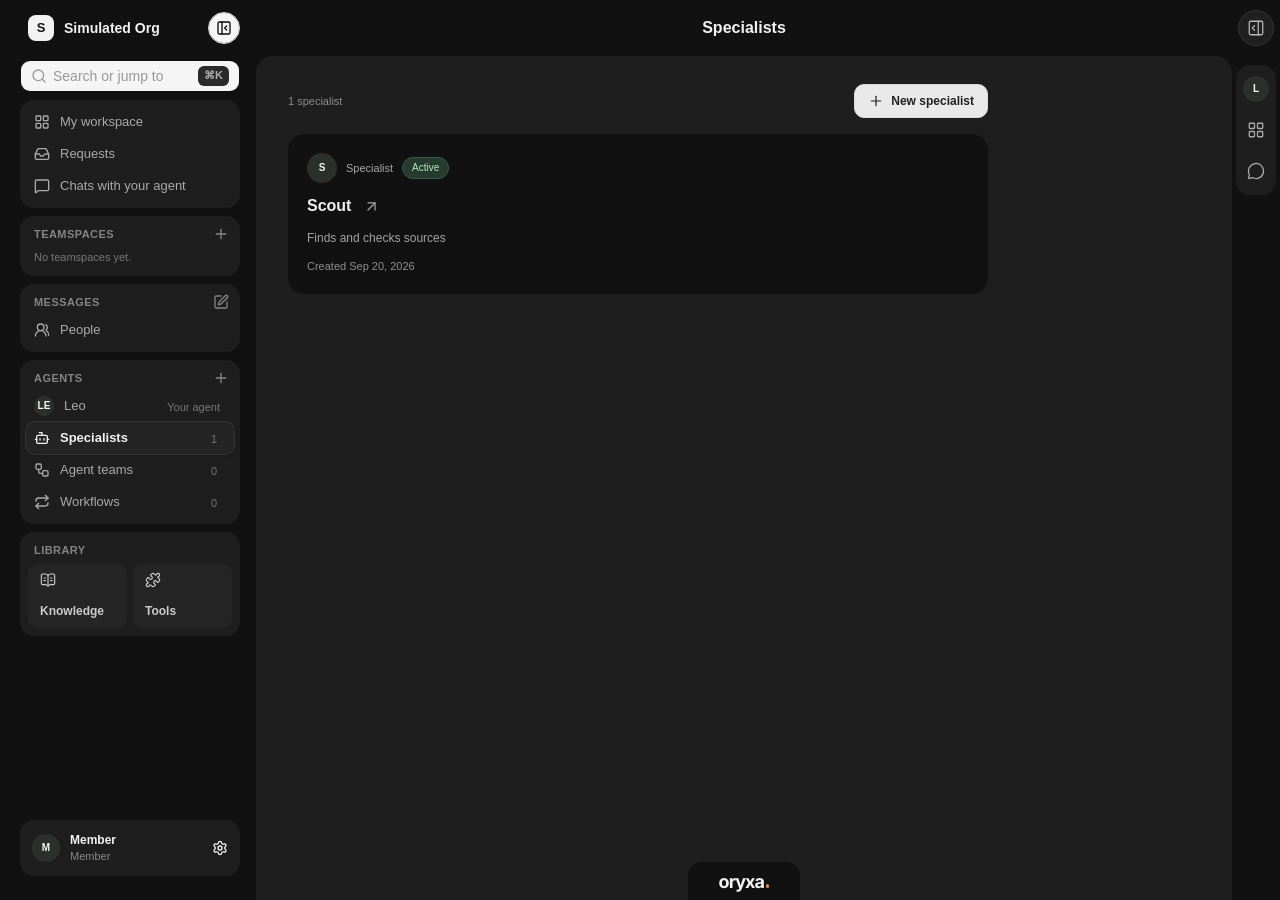
Test case: Specialists › keeps the form open with the name refused when it is taken
The width and height of the screenshot is (1280, 900).
Check: the button with aria-label "Open Scout" is shown, box [288, 134, 988, 294]
Step 1. Click the button "New specialist" → (921, 101), box [854, 84, 988, 118]
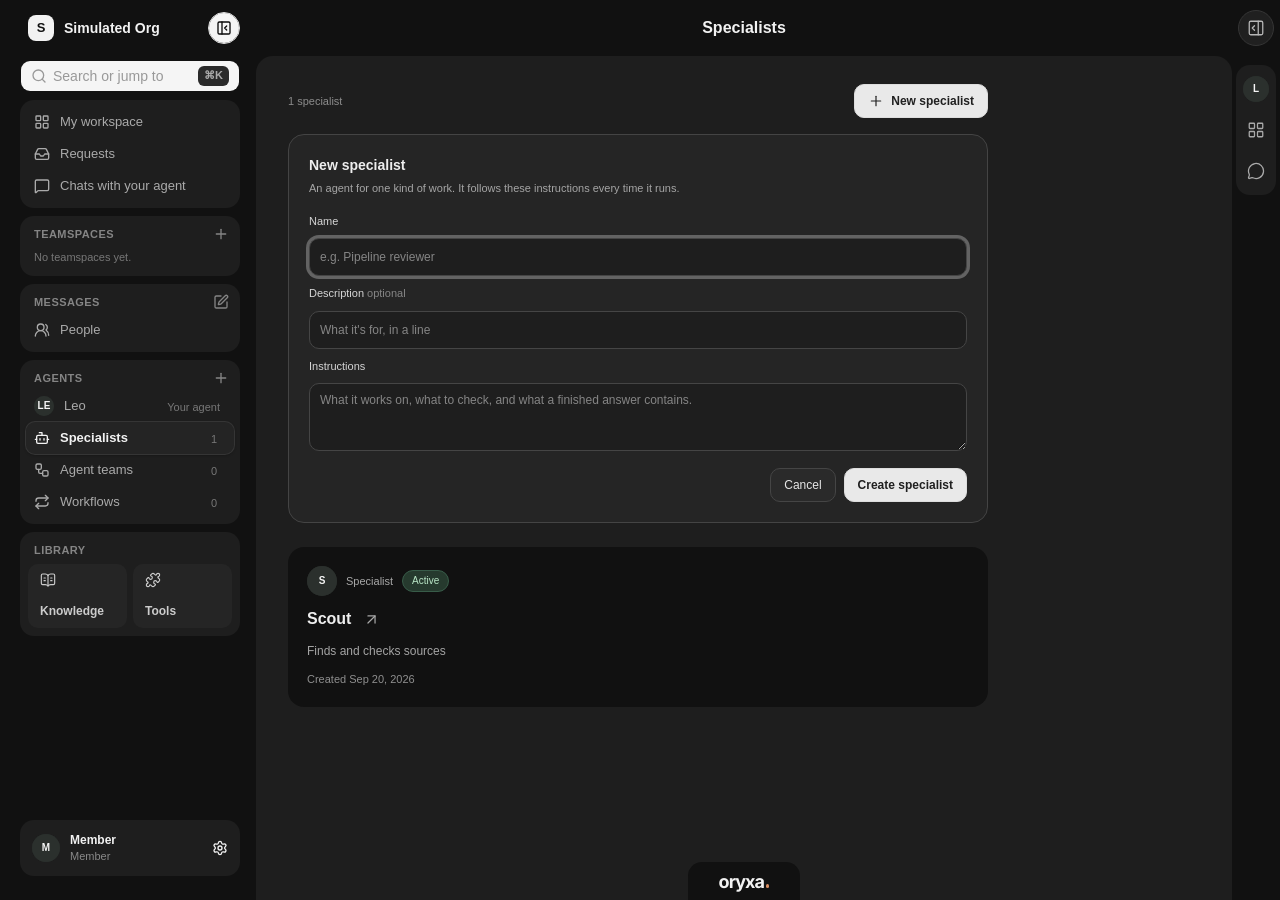
Step 2. Type "scout" into the field labelled "Name" → (638, 257), box [309, 238, 967, 276]
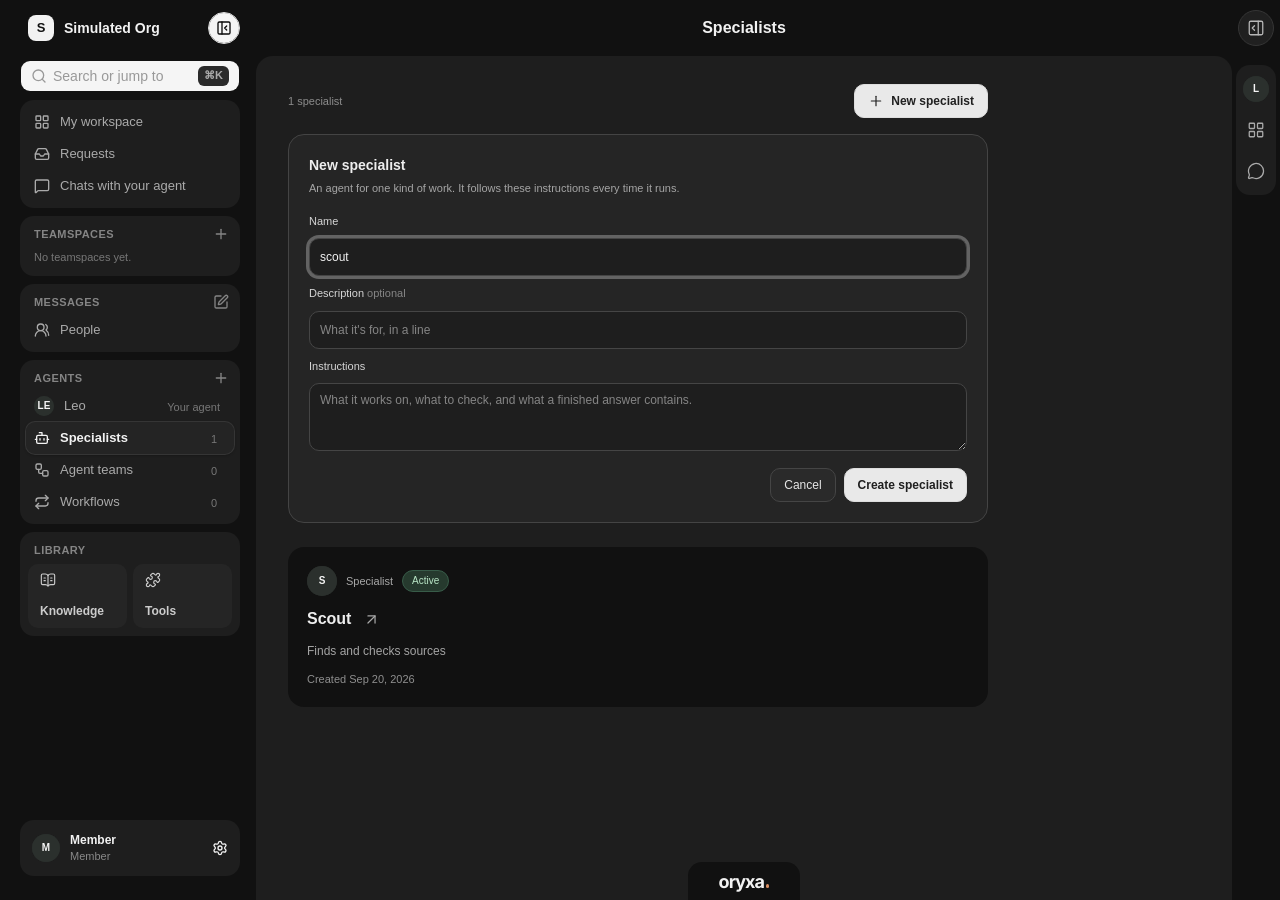
Step 3. Replace the text in the text box labelled "Instructions" with "Anything." → (638, 417), box [309, 383, 967, 451]
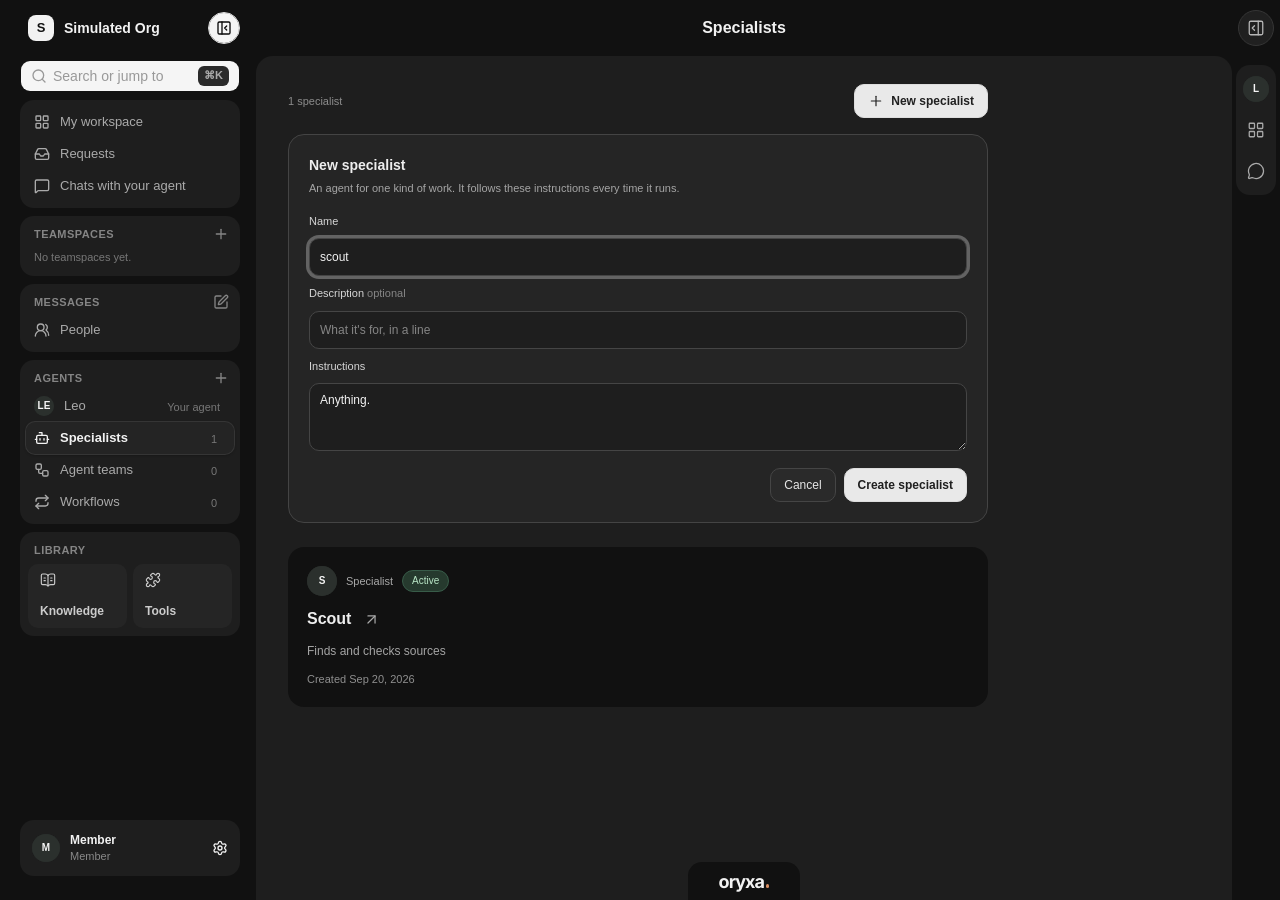
Step 4. Click the button "Create specialist" → (905, 485), box [844, 468, 967, 502]
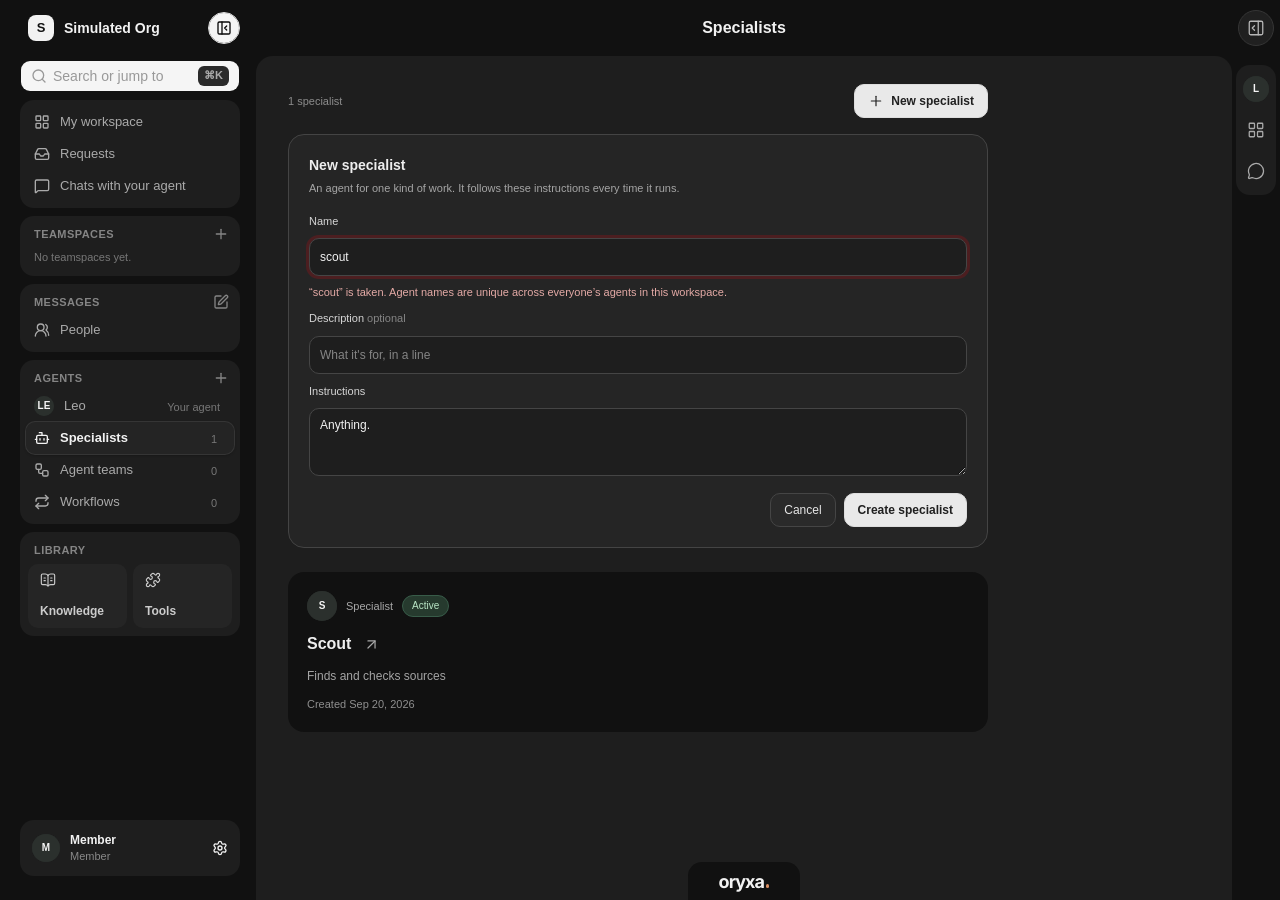
Check: the form "New specialist" is shown, box [288, 134, 988, 548]
Step 5. Replace the text in the field labelled "Name" with "Atlas" → (638, 257), box [309, 238, 967, 276]
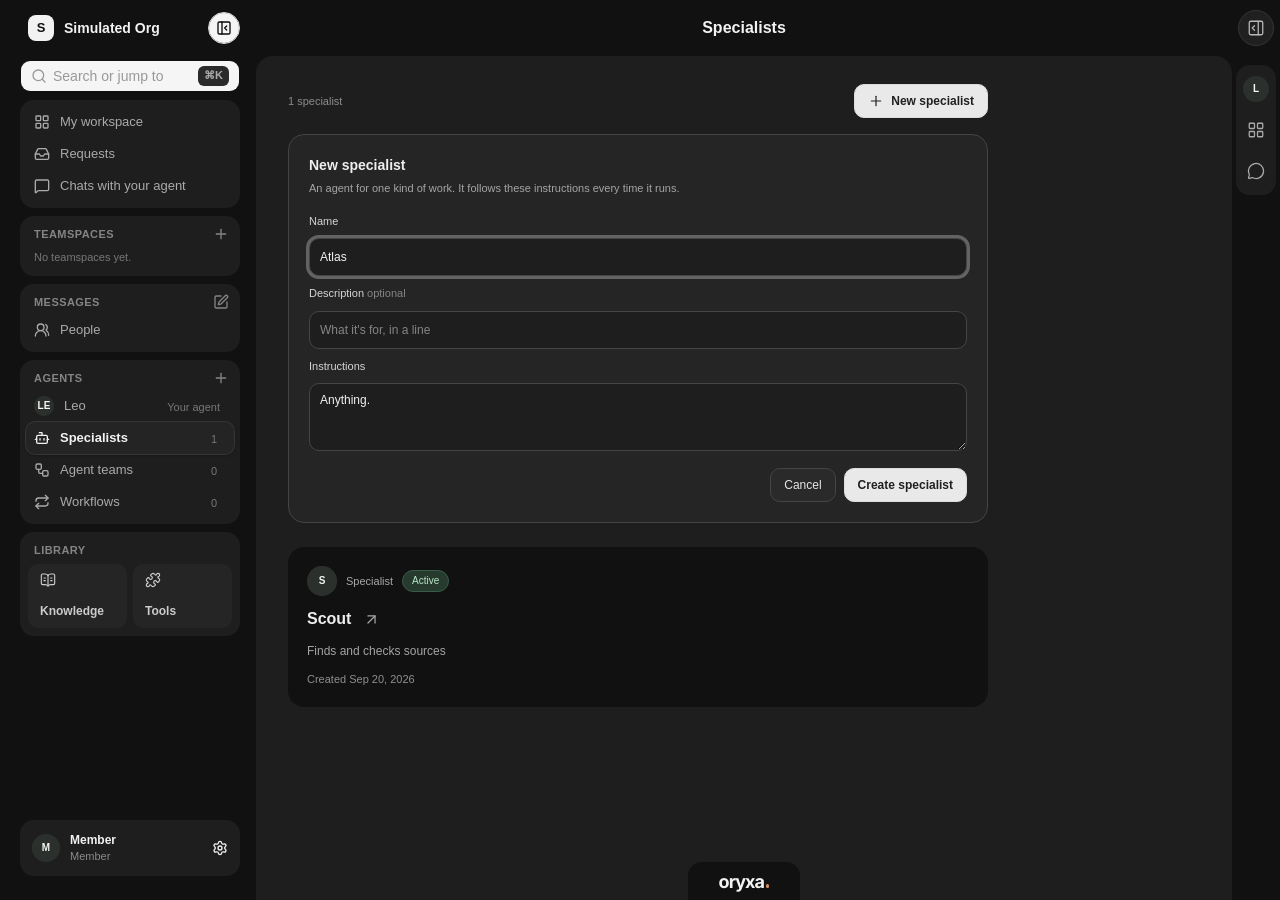
Step 6. Click the button "Create specialist" → (905, 485), box [844, 468, 967, 502]
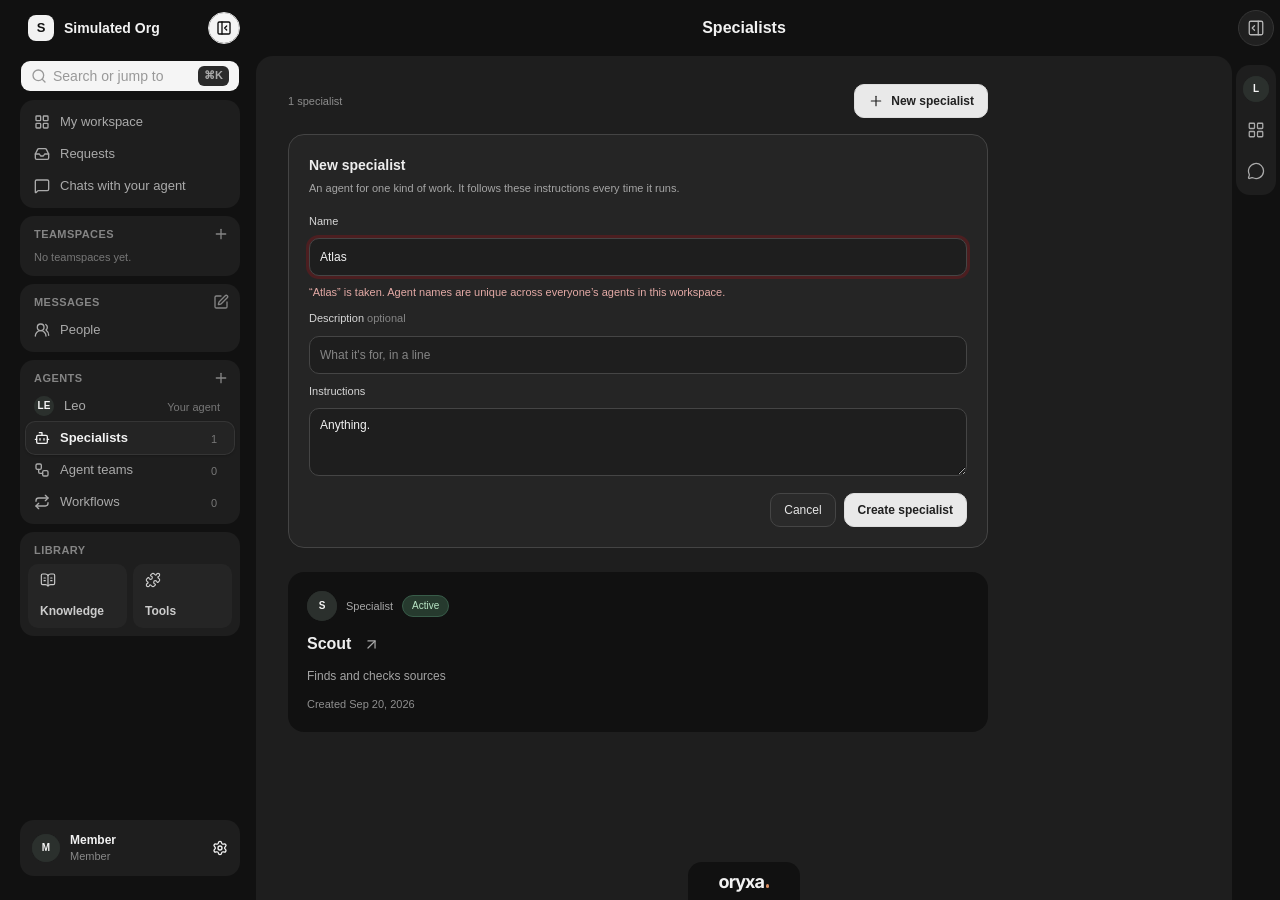
Check: the text "“Atlas” is taken. Agent names are unique across everyone’s agents in this workspace." is shown, box [309, 286, 725, 298]
